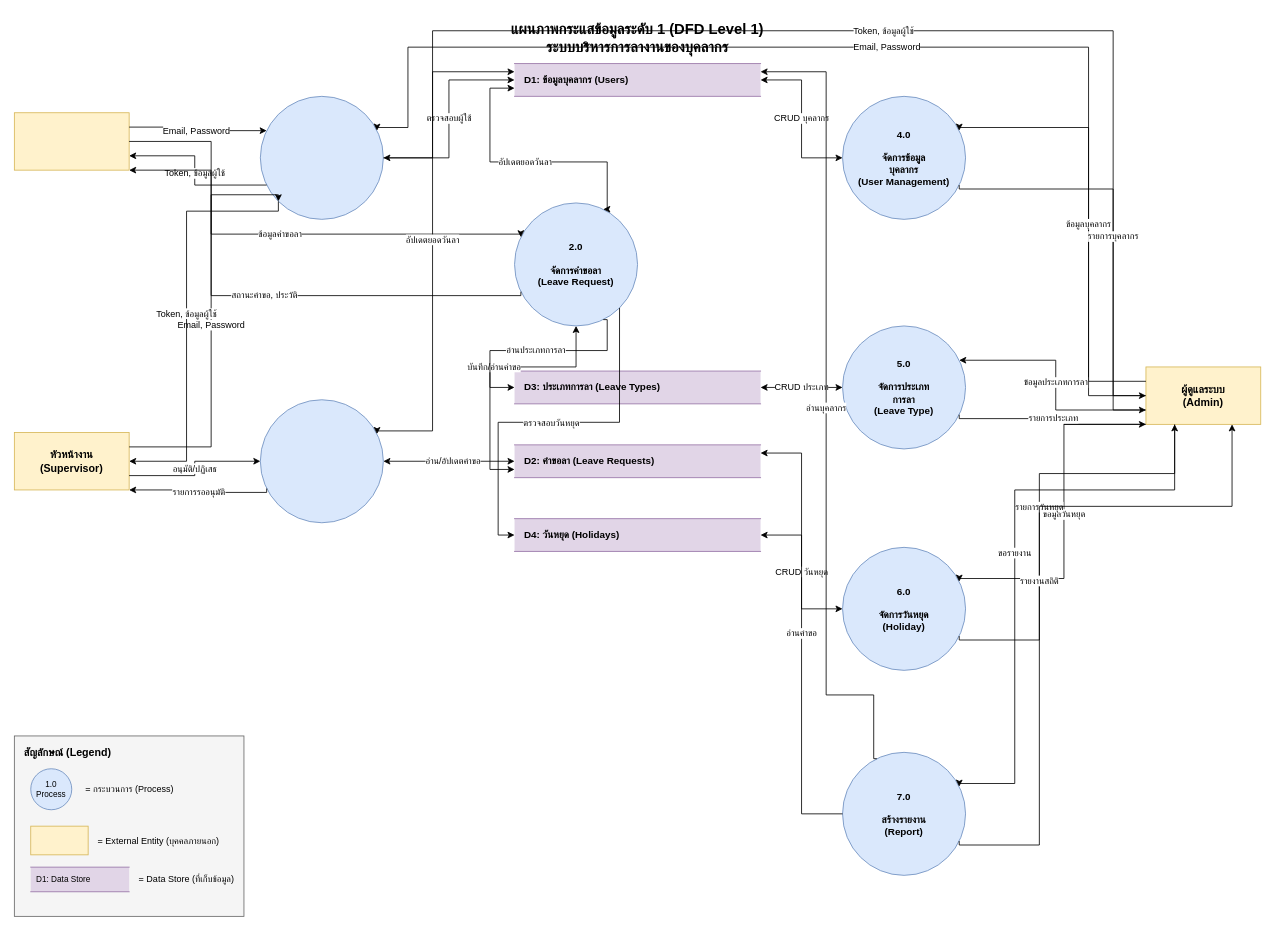
Image size: 1275x931. Some labels were removed from this diagram. The shapes that lost their labels are listed below. From the top down, each one's centre as x and y in pixels, then its label:
At (x=71, y=141): "บุคลากร (Employee)".
At (x=321, y=157): "1.0 จัดการการเข้าสู่ระบบ (Authentication)".
At (x=321, y=461): "3.0 อนุมัติคำขอลา (Approval)".
At (x=59, y=840): "External".
